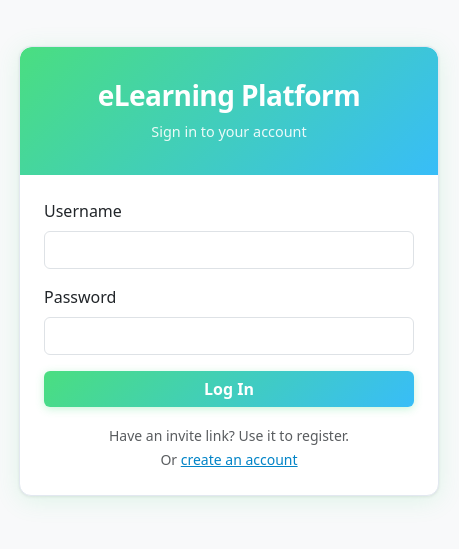
it: Login › shows error message on failed login
The image size is (459, 549).
Type "wrong" into the field labelled "Username" at (229, 250), box [44,231,414,269]
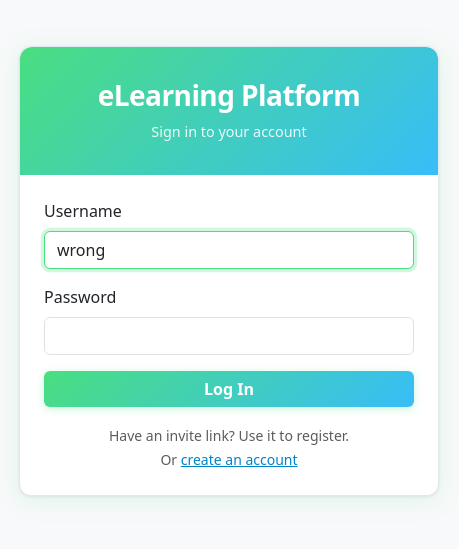
Type "wrong" into the password field labelled "Password" at (229, 336), box [44,317,414,355]
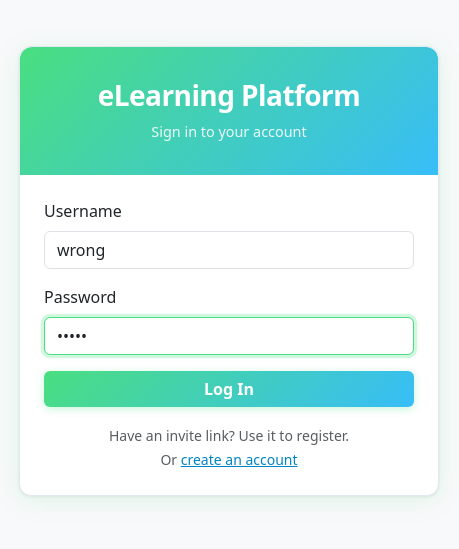
Click the button "Log In" at (229, 389), box [44,371,414,407]
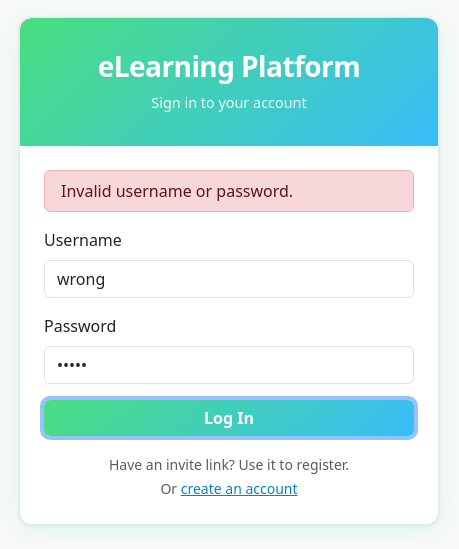
Expected: the text "Invalid username or password." is shown, [44,170,414,212]
